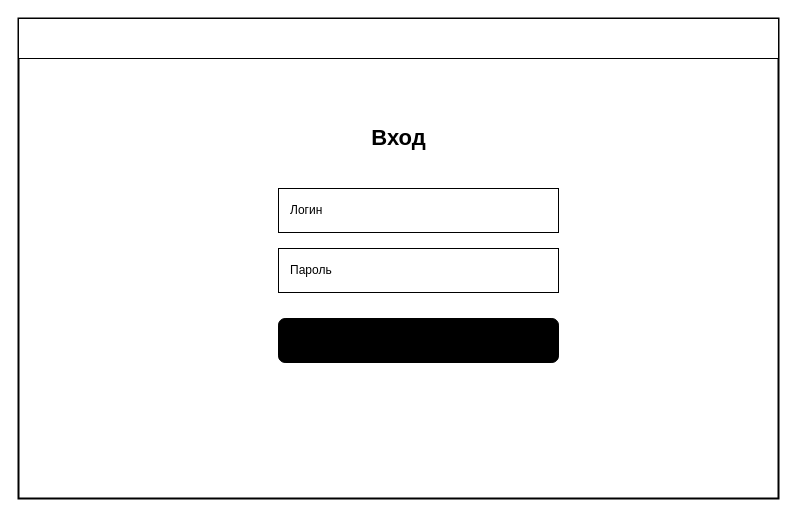
The diagram is 796 pixels wide and 516 high, and some of its shapes have lost their labels. The centre of each missing label's shape, as x and y in pixels:
"Войти" goes at (418,340).
"Заряди сам — администратор" goes at (398,38).
